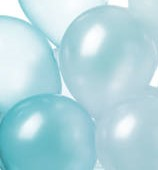Balloon: (58, 6, 158, 103), (1, 92, 92, 170), (93, 86, 158, 170)
